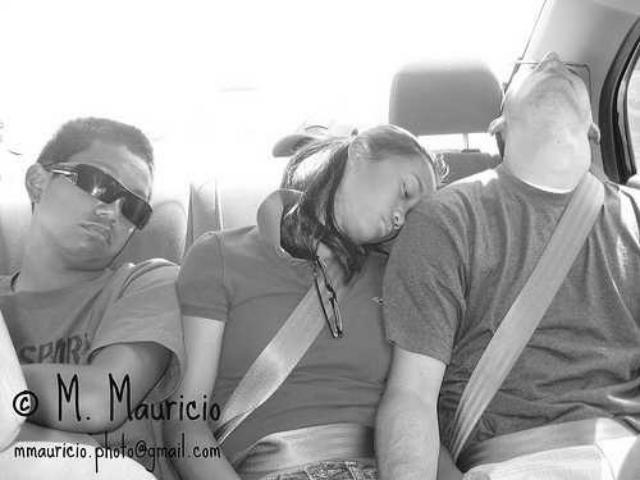Seatbelt: (442, 169, 610, 465), (212, 243, 370, 451)
